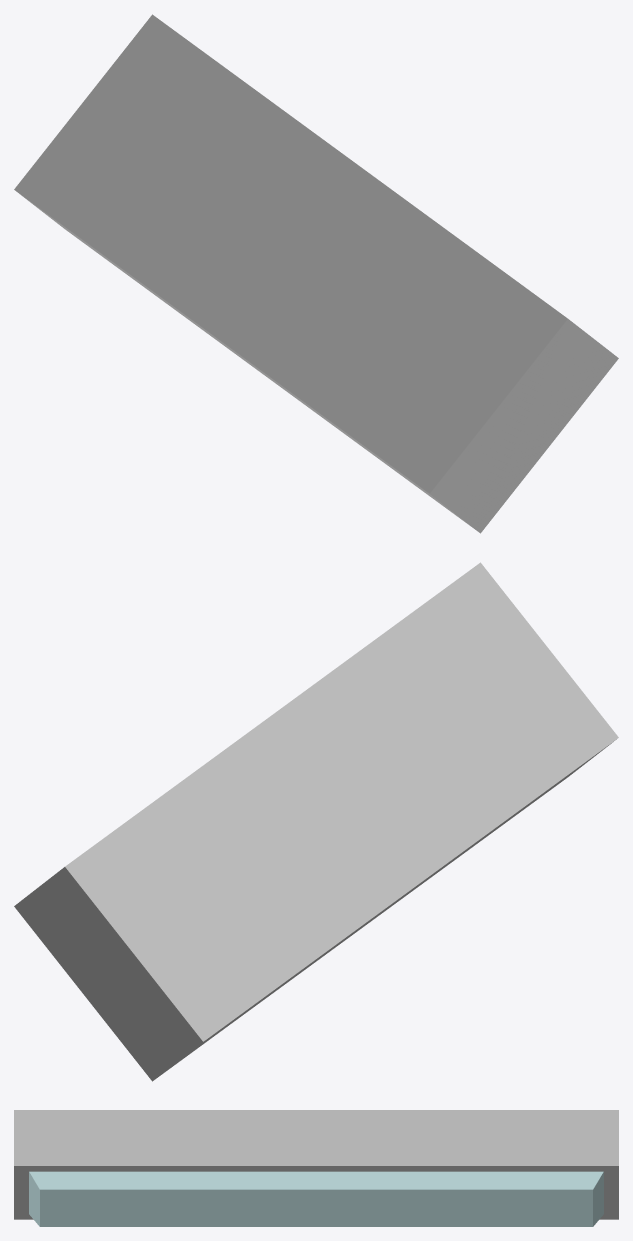
Rendered from lighting.fbx.
3 renders of one model, top to bottom at view 1: azimuth 30°, elevation 25°; view 2: azimuth 150°, elevation 25°; view 3: azimuth 270°, elevation 25°, orthographic. The views are drawn at different scales.
Visible parts, largest first — view 1: light.001; view 2: light.001; view 3: light.001.
Boxes of the visible parts, x1=… form: light.001: x1=14, y1=14, x2=618, y2=533; light.001: x1=14, y1=562, x2=618, y2=1081; light.001: x1=14, y1=1110, x2=618, y2=1226.
Bounding box in the file's own units: 39.44 × 38.53 × 150.
